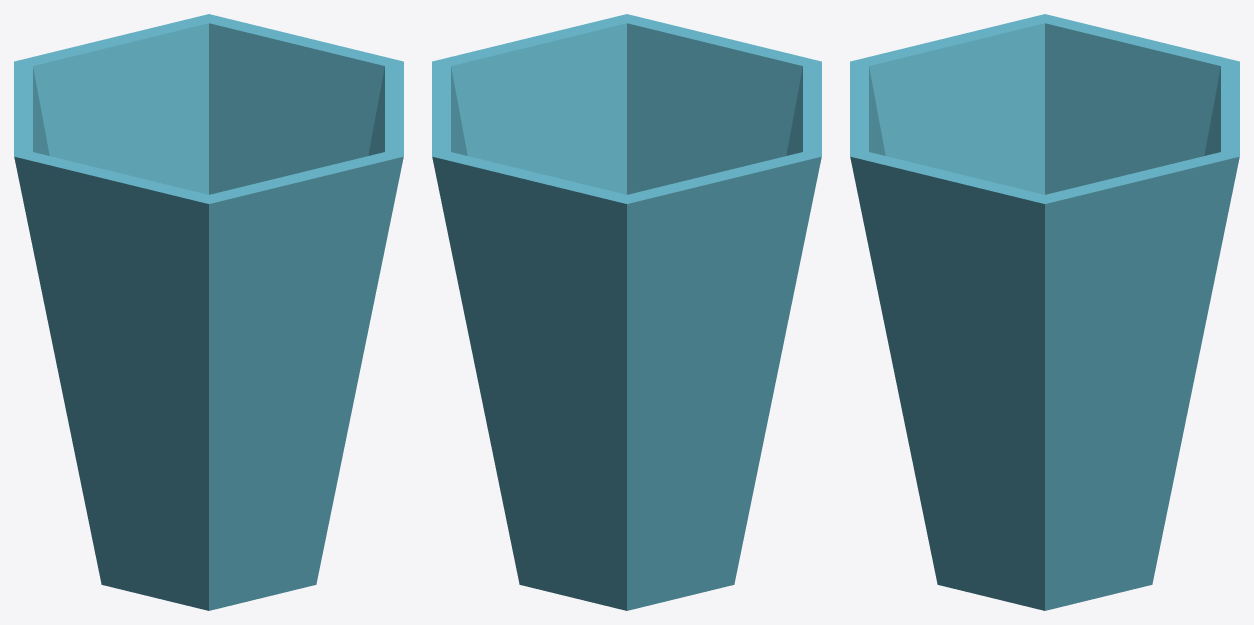
Rendered from Vase.fbx.
3 views of the same model, side by side, from view 1: azimuth 30°, elevation 25°; view 2: azimuth 150°, elevation 25°; view 3: azimuth 270°, elevation 25° (orthographic).
Parts seen in each view (by area): view 1: Vase; view 2: Vase; view 3: Vase.
Boxes of the visible parts, box(x1,y1,x2,y2) form: Vase: box(14, 14, 403, 610); Vase: box(432, 14, 821, 610); Vase: box(850, 14, 1239, 610).
Size of the model in its own units: 0.1843 by 0.2032 by 0.1596.
